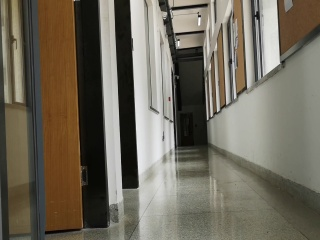room: (1, 2, 112, 227)
